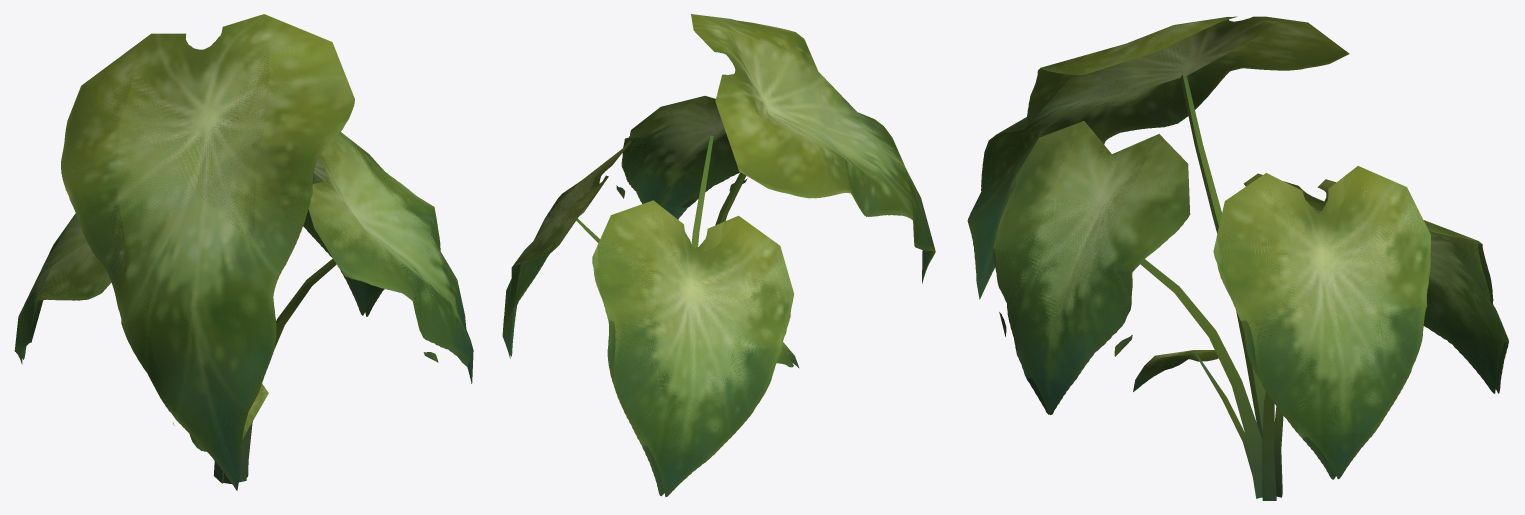
The model's file is Yland1_Zb_03_Yland1.FBX.
The picture shows the model from 3 angles, left to right: view 1: azimuth 30°, elevation 25°; view 2: azimuth 150°, elevation 25°; view 3: azimuth 270°, elevation 25°; orthographic projection. The views are drawn at different scales.
Parts seen in each view (by area): view 1: Yland1_Zb_03_Yland1; view 2: Yland1_Zb_03_Yland1; view 3: Yland1_Zb_03_Yland1.
Boxes of the visible parts, bbox=[...] form: Yland1_Zb_03_Yland1: bbox=[14, 14, 473, 490]; Yland1_Zb_03_Yland1: bbox=[502, 14, 935, 497]; Yland1_Zb_03_Yland1: bbox=[967, 16, 1508, 500].
Bounding box in the file's own units: 3.12 × 3.83 × 3.96.
